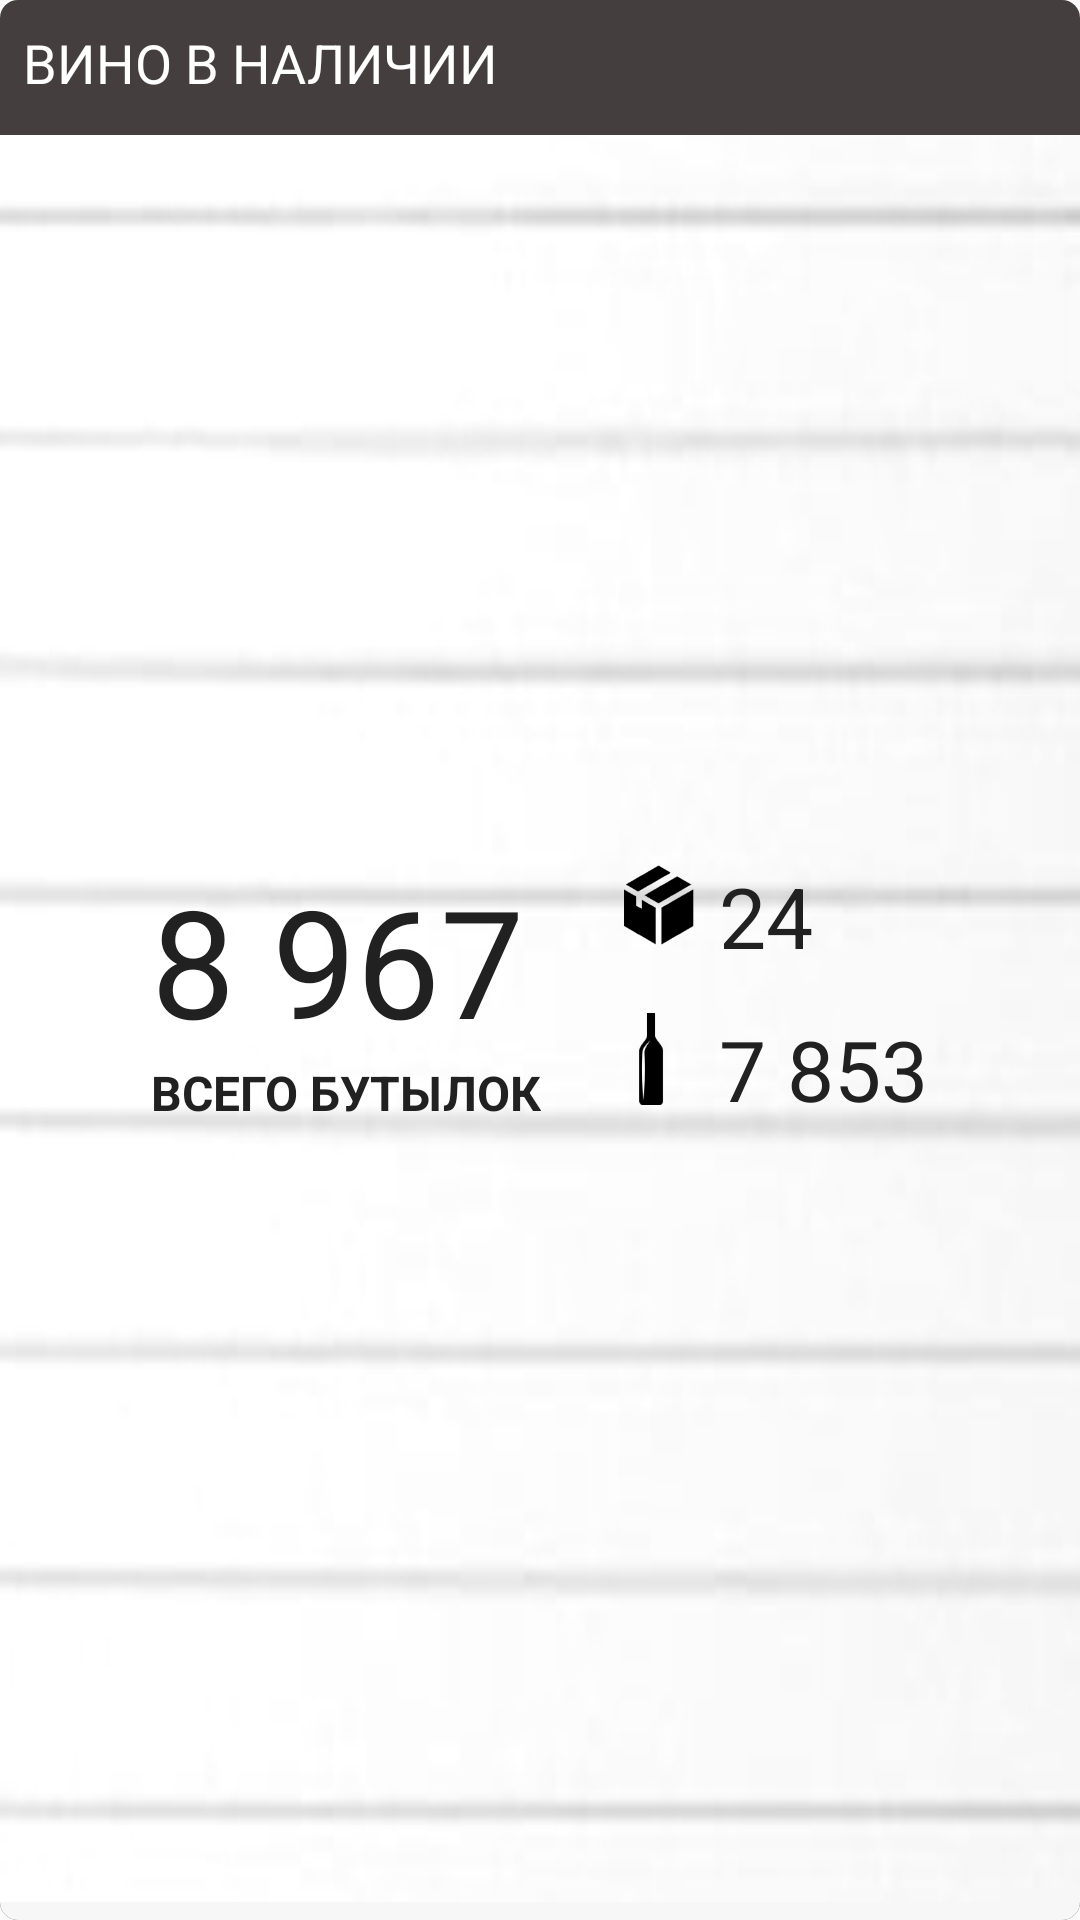

Named icons in this screenshot (1080px×1920px) and their centers, [x,y]:
box: [659,905]
wine bottle: [651,1059]
